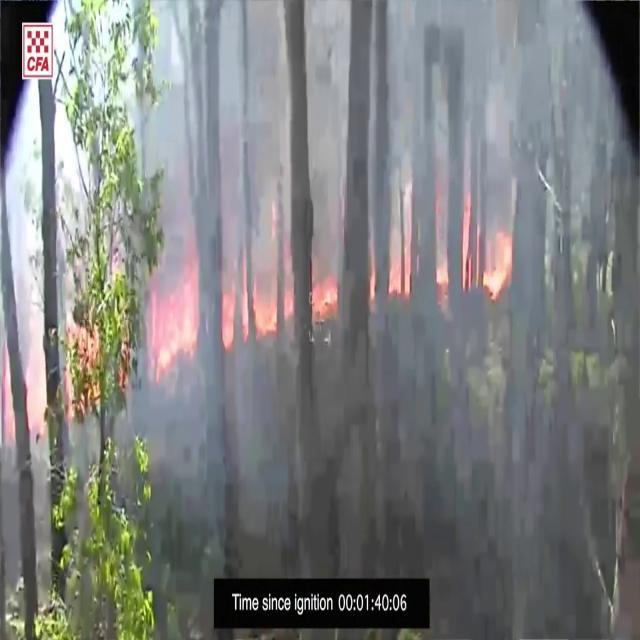Fire: (482, 223, 514, 300)
Smoke: (153, 1, 533, 492)
